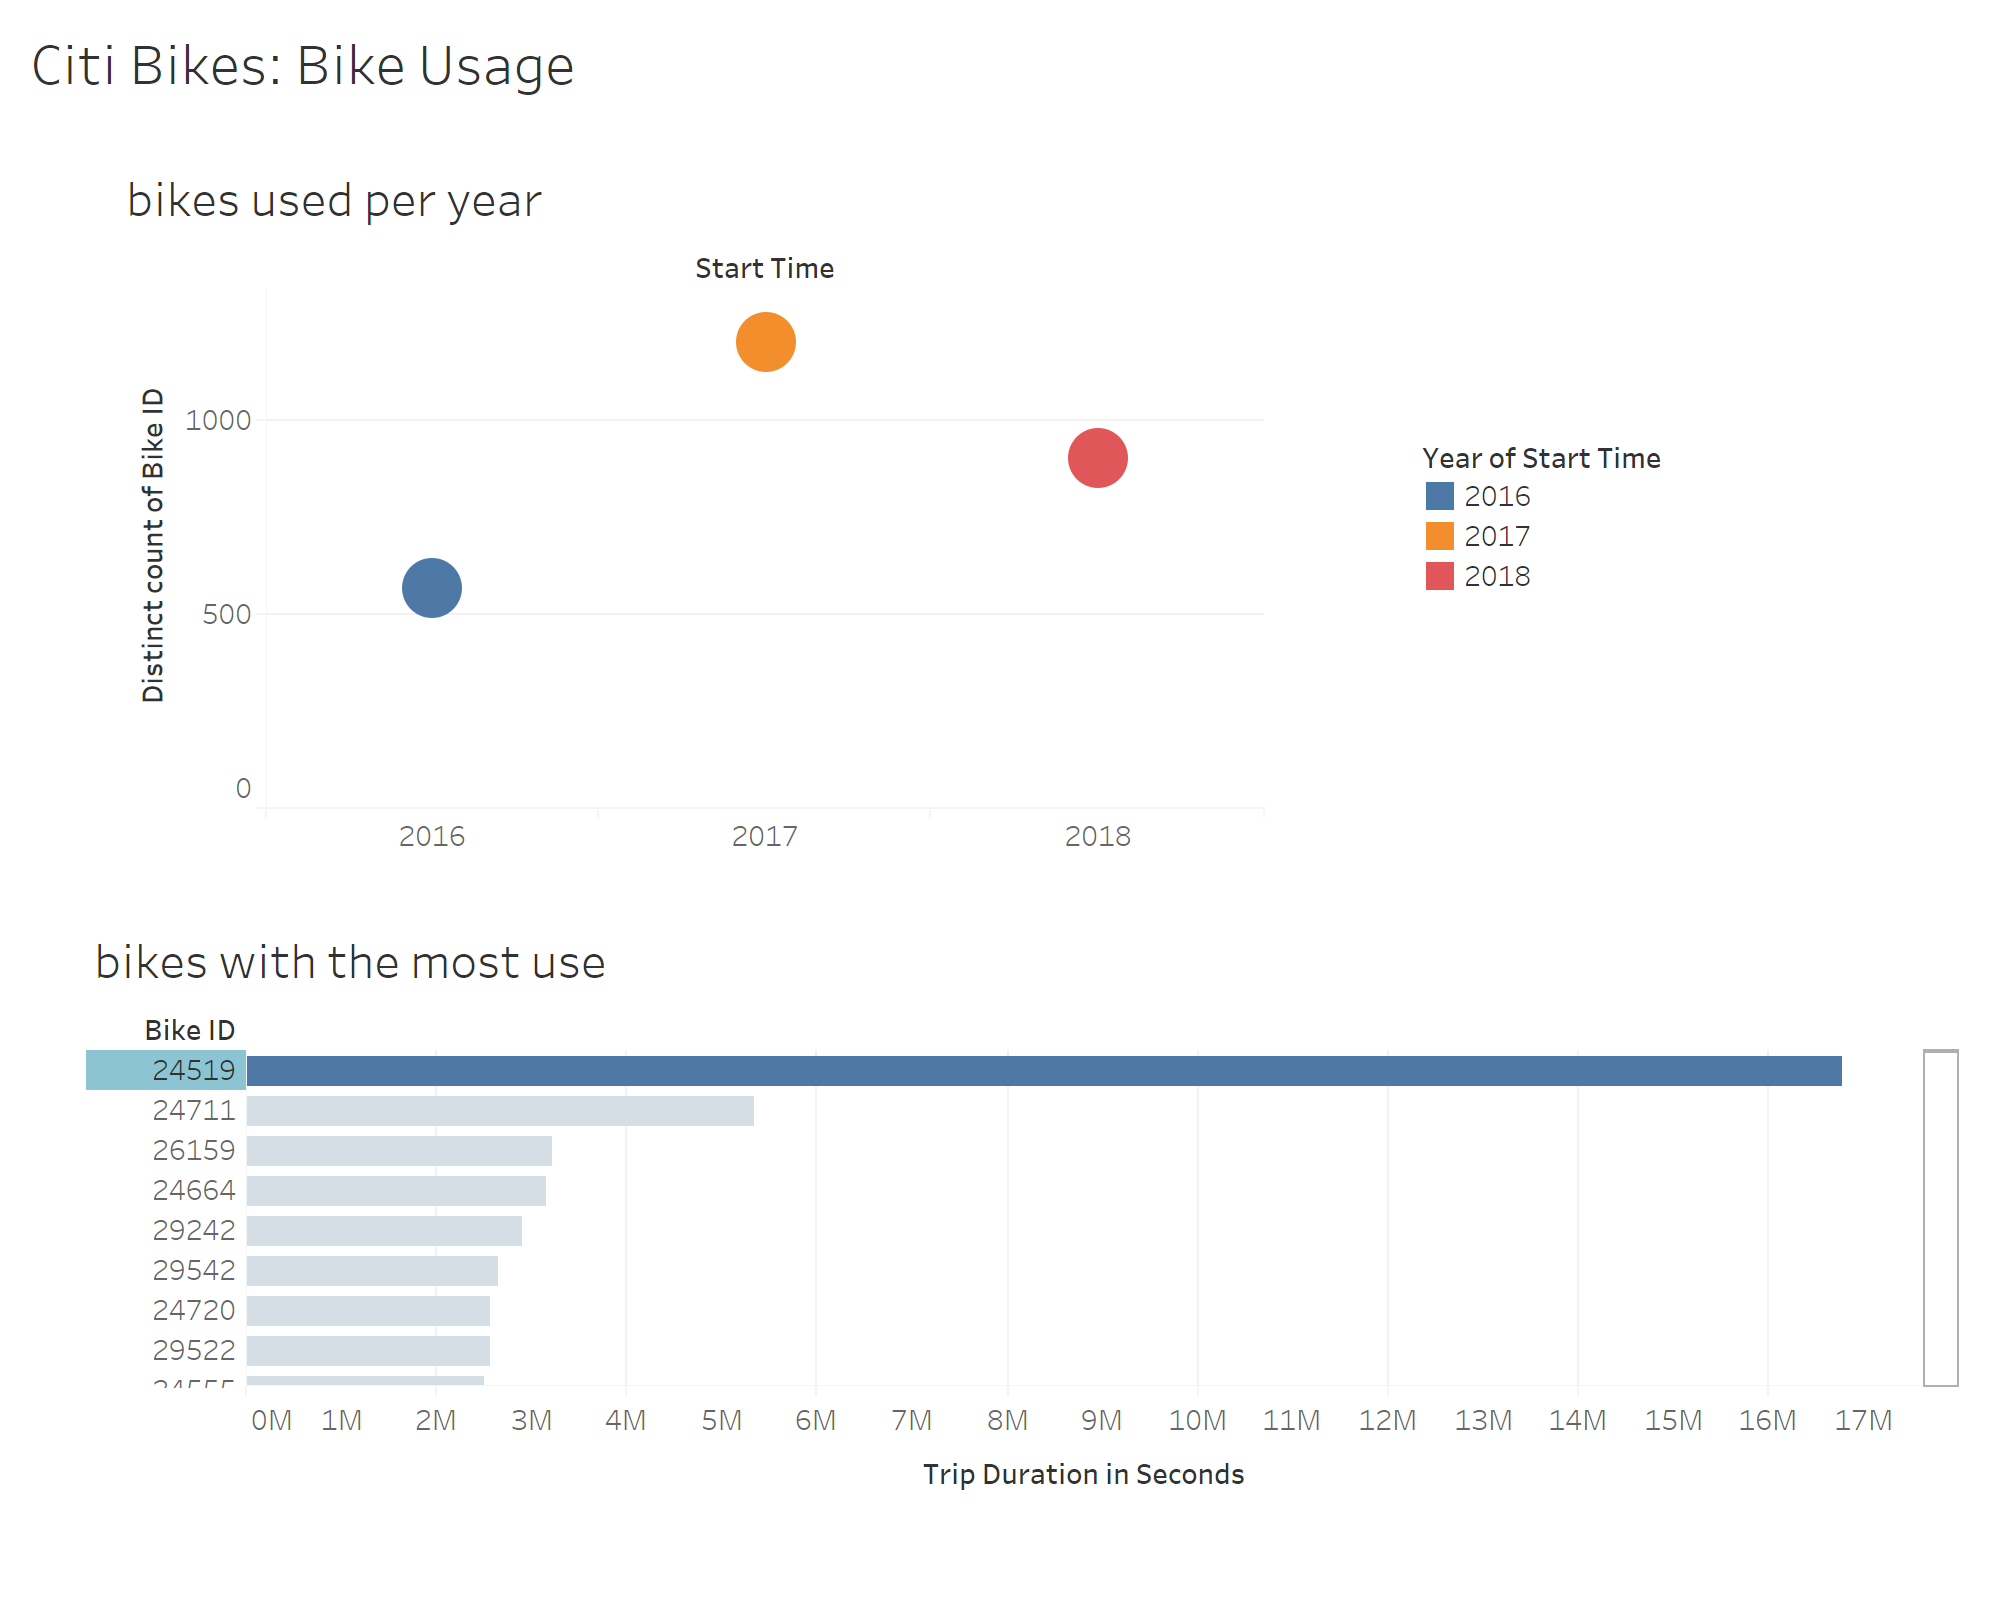

What the dashboard file says about the page in this screenshot:
{"tool":"tableau","page":{"name":"Bike Usage Dashboard","canvas":[1000,800],"ordinal":0},"visuals":[{"type":"title","box":[8,8,984,46]},{"type":"worksheet","title":"bikes used per year","mark":"Circle","rows":["Bike ID"],"cols":["Start Time"],"box":[55,73,581,359]},{"type":"legend","title":"bikes used per year","param":"[federated.05p89nf1blcklp1b6y2vs13xkesh].[yr:Start Time:ok]","box":[710,217,140,96]},{"type":"worksheet","title":"bikes with the most use","mark":"Automatic","rows":["Bike ID"],"cols":["Trip Duration"],"box":[39,454,945,304]}]}

Visuals, with their boxes in screenshot pixels (x1, y1, x2, y2), scaled from the page's 1000x800 canvas onto the 2000x1600 screenshot:
title: (x1=16, y1=16, x2=1984, y2=108)
"bikes used per year" worksheet (Circle marks): (x1=110, y1=146, x2=1272, y2=864)
"bikes used per year" legend: (x1=1420, y1=434, x2=1700, y2=626)
"bikes with the most use" worksheet: (x1=78, y1=908, x2=1968, y2=1516)
